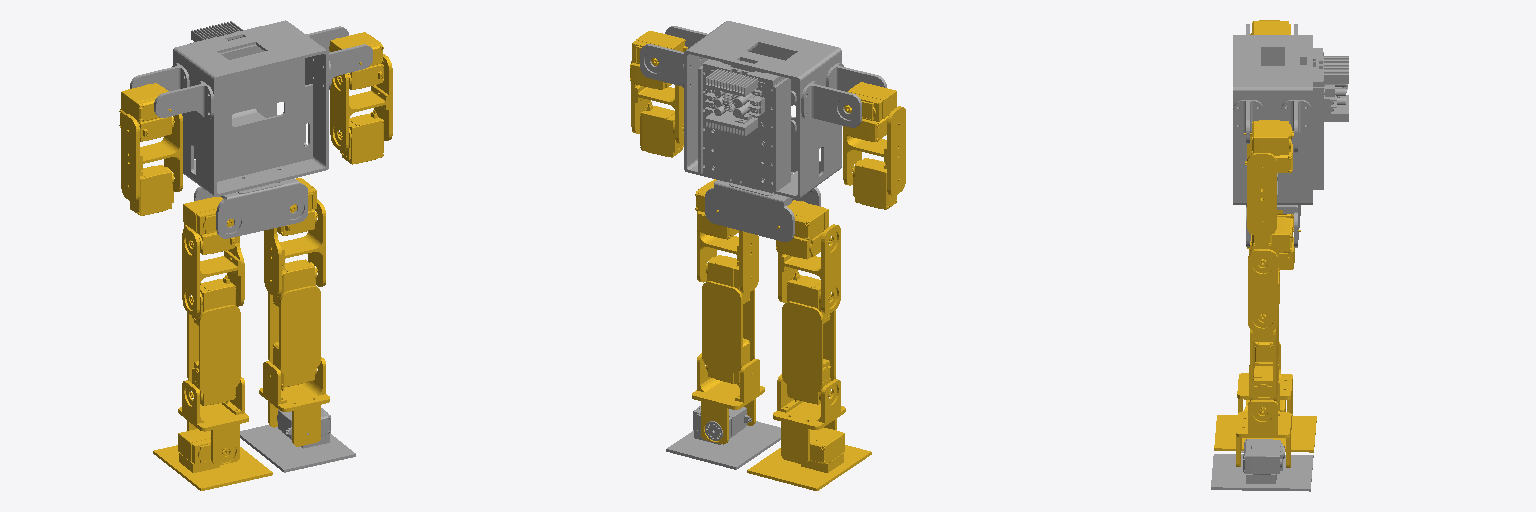
--- Facts derived from the render (not from the file) ---
3 views of the same robot in one strip: view 1: azimuth 30°, elevation 25°; view 2: azimuth 150°, elevation 25°; view 3: azimuth 270°, elevation 25° (orthographic).
Robot: robot_humanoid — 19 links, 18 joints (17 revolute, 1 fixed); root link base_link; default pose: all joints at 0.
Links seen in each view (by area): view 1: base_hip_middle_link, hip_knee_left_link, hip_knee_right_link, knee_ankle_left_link, base_link, hip_hip_left_link, hip_hip_right_link, ankle_ankle_right_link, knee_ankle_right_link, shoulder_shoulder_left_link, shoulder_shoulder_right_link, knee_knee_left_link (+6 smaller); view 2: base_hip_middle_link, hip_knee_left_link, hip_knee_right_link, knee_ankle_left_link, base_link, ankle_ankle_right_link, hip_hip_left_link, hip_hip_right_link, knee_ankle_right_link, shoulder_shoulder_left_link, knee_knee_left_link, hip_shoulder_left_link (+5 smaller); view 3: base_hip_middle_link, ankle_ankle_right_link, hip_hip_right_link, shoulder_shoulder_right_link, knee_ankle_right_link, knee_knee_left_link, hip_shoulder_right_link, hip_knee_right_link, knee_ankle_left_link, base_hip_right_link, hip_shoulder_left_link.
Link boxes in pixels (box(x1,y1,x2,y2)): base_hip_middle_link: box(130, 20, 372, 196); hip_knee_left_link: box(187, 279, 240, 405); hip_knee_right_link: box(268, 264, 320, 390); knee_ankle_left_link: box(178, 377, 248, 465); base_link: box(194, 178, 307, 238); hip_hip_left_link: box(182, 224, 244, 325); hip_hip_right_link: box(264, 199, 325, 305); ankle_ankle_right_link: box(240, 408, 355, 472); knee_ankle_right_link: box(259, 357, 329, 446); shoulder_shoulder_left_link: box(121, 113, 182, 202); shoulder_shoulder_right_link: box(330, 54, 392, 151); knee_knee_left_link: box(153, 429, 272, 490); base_hip_middle_link: box(640, 21, 886, 198); hip_knee_left_link: box(782, 273, 835, 404); hip_knee_right_link: box(702, 262, 754, 387); knee_ankle_left_link: box(773, 374, 845, 464); base_link: box(705, 180, 820, 241); ankle_ankle_right_link: box(666, 406, 780, 469); hip_hip_left_link: box(776, 224, 840, 323); hip_hip_right_link: box(697, 211, 758, 303); knee_ankle_right_link: box(692, 353, 764, 444); shoulder_shoulder_left_link: box(843, 106, 905, 195); knee_knee_left_link: box(747, 433, 871, 490); hip_shoulder_left_link: box(844, 82, 900, 141); base_hip_middle_link: box(1233, 24, 1348, 204); ankle_ankle_right_link: box(1211, 439, 1313, 491); hip_hip_right_link: box(1248, 246, 1294, 341); shoulder_shoulder_right_link: box(1247, 135, 1290, 235); knee_ankle_right_link: box(1236, 381, 1291, 467); knee_knee_left_link: box(1214, 400, 1316, 452); hip_shoulder_right_link: box(1244, 120, 1293, 172); hip_knee_right_link: box(1250, 314, 1277, 414); knee_ankle_left_link: box(1237, 342, 1292, 429); base_hip_right_link: box(1247, 217, 1300, 269); hip_shoulder_left_link: box(1252, 20, 1290, 34).
Bounding box of the posed robot: 0.2934 × 0.1384 × 0.4353 m (x, y, z).
Meshes: 19 distinct files referenced, 18 mesh visuals loaded (18 binary STL); not drawn: 1 (file found but could not be loaded).

URDF robot description (robot_humanoid):
<?xml version="1.0" encoding="utf-8"?>
<!-- This URDF was automatically created by SolidWorks to URDF Exporter! Originally created by Stephen Brawner ([email redacted]) 
     Commit Version: 1.6.0-4-g7f85cfe  Build Version: 1.6.7995.38578
     For more information, please see http://wiki.ros.org/sw_urdf_exporter -->
<robot
  name="robot_humanoid">
  <link
    name="base_link">
    <inertial>
      <origin
        xyz="5.71814292951013E-05 0.00162414381721162 -0.0125699477944302"
        rpy="0 0 0" />
      <mass
        value="0.0483184538892821" />
      <inertia
        ixx="1.5828128500131E-05"
        ixy="8.31810832114208E-07"
        ixz="-1.08217563471799E-07"
        iyy="3.94036713713429E-05"
        iyz="-3.07180859272079E-06"
        izz="3.9835265766736E-05" />
    </inertial>
    <visual>
      <origin
        xyz="0 0 0"
        rpy="0 0 0" />
      <geometry>
        <mesh
          filename="package://robot_humanoid/meshes/base_link.STL" />
      </geometry>
      <material
        name="">
        <color
          rgba="0.698039215686274 0.698039215686274 0.698039215686274 1" />
      </material>
    </visual>
    <collision>
      <origin
        xyz="0 0 0"
        rpy="0 0 0" />
      <geometry>
        <mesh
          filename="package://robot_humanoid/meshes/base_link.STL" />
      </geometry>
    </collision>
  </link>
  <link
    name="base_hip_left_link">
    <inertial>
      <origin
        xyz="0.0105399293381448 -0.0102302850975857 0.0211771873022691"
        rpy="0 0 0" />
      <mass
        value="0.107894198693898" />
      <inertia
        ixx="1.74833584475852E-05"
        ixy="-5.42621266297093E-11"
        ixz="-6.14098886759368E-21"
        iyy="2.77733120653056E-05"
        iyz="-1.55692496780741E-10"
        izz="1.7482432927055E-05" />
    </inertial>
    <visual>
      <origin
        xyz="0 0 0"
        rpy="0 0 0" />
      <geometry>
        <mesh
          filename="package://robot_humanoid/meshes/base_hip_left_link.STL" />
      </geometry>
      <material
        name="">
        <color
          rgba="0.949019607843137 0.76078431372549 0.180392156862745 1" />
      </material>
    </visual>
    <collision>
      <origin
        xyz="0 0 0"
        rpy="0 0 0" />
      <geometry>
        <mesh
          filename="package://robot_humanoid/meshes/base_hip_left_link.STL" />
      </geometry>
    </collision>
  </link>
  <joint
    name="base_hip_left_joint"
    type="revolute">
    <origin
      xyz="-0.0357 -0.019255 -0.027"
      rpy="1.5708 0 3.1064" />
    <parent
      link="base_link" />
    <child
      link="base_hip_left_link" />
    <axis
      xyz="0 0 1" />
    <limit
      lower="0"
      upper="0"
      effort="0"
      velocity="0" />
  </joint>
  <link
    name="hip_hip_left_link">
    <inertial>
      <origin
        xyz="-0.00424611195124075 -0.0343742172733461 -0.018392018683035"
        rpy="0 0 0" />
      <mass
        value="0.12988008385202" />
      <inertia
        ixx="3.54199501553719E-05"
        ixy="3.6434785049625E-07"
        ixz="-9.72480962324895E-09"
        iyy="2.7425240525354E-05"
        iyz="-9.88439397000031E-09"
        izz="2.96024606419154E-05" />
    </inertial>
    <visual>
      <origin
        xyz="0 0 0"
        rpy="0 0 0" />
      <geometry>
        <mesh
          filename="package://robot_humanoid/meshes/hip_hip_left_link.STL" />
      </geometry>
      <material
        name="">
        <color
          rgba="0.949019607843137 0.76078431372549 0.180392156862745 1" />
      </material>
    </visual>
    <collision>
      <origin
        xyz="0 0 0"
        rpy="0 0 0" />
      <geometry>
        <mesh
          filename="package://robot_humanoid/meshes/hip_hip_left_link.STL" />
      </geometry>
    </collision>
  </link>
  <joint
    name="hip_hip_left_joint"
    type="revolute">
    <origin
      xyz="0.0295000000000003 -0.0205000000000002 0.0105000000000001"
      rpy="0 1.5707963267949 0" />
    <parent
      link="base_hip_left_link" />
    <child
      link="hip_hip_left_link" />
    <axis
      xyz="0 0 -1" />
    <limit
      lower="0"
      upper="0"
      effort="0"
      velocity="0" />
  </joint>
  <link
    name="hip_knee_left_link">
    <inertial>
      <origin
        xyz="5.55836626725537E-13 -0.0521312435295957 -0.0183200192904703"
        rpy="0 0 0" />
      <mass
        value="0.130204487068308" />
      <inertia
        ixx="4.59198297284827E-05"
        ixy="-2.0995450048482E-10"
        ixz="-7.13984823547857E-16"
        iyy="2.02899102704369E-05"
        iyz="-1.35613409155228E-15"
        izz="3.28558642041373E-05" />
    </inertial>
    <visual>
      <origin
        xyz="0 0 0"
        rpy="0 0 0" />
      <geometry>
        <mesh
          filename="package://robot_humanoid/meshes/hip_knee_left_link.STL" />
      </geometry>
      <material
        name="">
        <color
          rgba="0.949019607843137 0.76078431372549 0.180392156862745 1" />
      </material>
    </visual>
    <collision>
      <origin
        xyz="0 0 0"
        rpy="0 0 0" />
      <geometry>
        <mesh
          filename="package://robot_humanoid/meshes/hip_knee_left_link.STL" />
      </geometry>
    </collision>
  </link>
  <joint
    name="hip_knee_left_joint"
    type="revolute">
    <origin
      xyz="0 -0.0599999999999997 0"
      rpy="0 0 0" />
    <parent
      link="hip_hip_left_link" />
    <child
      link="hip_knee_left_link" />
    <axis
      xyz="0 0 -1" />
    <limit
      lower="0"
      upper="0"
      effort="0"
      velocity="0" />
  </joint>
  <link
    name="knee_ankle_left_link">
    <inertial>
      <origin
        xyz="-0.000605766944932005 -0.0469801174439637 -0.0116109882348644"
        rpy="0 0 0" />
      <mass
        value="0.0814463522717177" />
      <inertia
        ixx="1.86604517011287E-05"
        ixy="1.64723788355277E-06"
        ixz="4.58631415157031E-07"
        iyy="2.38739038507343E-05"
        iyz="-1.44797791059248E-06"
        izz="1.7876768644325E-05" />
    </inertial>
    <visual>
      <origin
        xyz="0 0 0"
        rpy="0 0 0" />
      <geometry>
        <mesh
          filename="package://robot_humanoid/meshes/knee_ankle_left_link.STL" />
      </geometry>
      <material
        name="">
        <color
          rgba="0.949019607843137 0.76078431372549 0.180392156862745 1" />
      </material>
    </visual>
    <collision>
      <origin
        xyz="0 0 0"
        rpy="0 0 0" />
      <geometry>
        <mesh
          filename="package://robot_humanoid/meshes/knee_ankle_left_link.STL" />
      </geometry>
    </collision>
  </link>
  <joint
    name="knee_ankle_left_joint"
    type="revolute">
    <origin
      xyz="0 -0.1034 0"
      rpy="0 0 0" />
    <parent
      link="hip_knee_left_link" />
    <child
      link="knee_ankle_left_link" />
    <axis
      xyz="0 0 -1" />
    <limit
      lower="0"
      upper="0"
      effort="0"
      velocity="0" />
  </joint>
  <link
    name="knee_knee_left_link">
    <inertial>
      <origin
        xyz="-0.00809509712634163 -0.00727461919403294 -0.0218892657362359"
        rpy="0 0 0" />
      <mass
        value="0.0850053645564242" />
      <inertia
        ixx="2.80542145236209E-05"
        ixy="5.98719522766253E-07"
        ixz="-9.6741360429222E-09"
        iyy="4.73017474375486E-05"
        iyz="5.07151850919877E-11"
        izz="2.35375503041348E-05" />
    </inertial>
    <visual>
      <origin
        xyz="0 0 0"
        rpy="0 0 0" />
      <geometry>
        <mesh
          filename="package://robot_humanoid/meshes/knee_knee_left_link.STL" />
      </geometry>
      <material
        name="">
        <color
          rgba="0.949019607843137 0.76078431372549 0.180392156862745 1" />
      </material>
    </visual>
    <collision>
      <origin
        xyz="0 0 0"
        rpy="0 0 0" />
      <geometry>
        <mesh
          filename="package://robot_humanoid/meshes/knee_knee_left_link.STL" />
      </geometry>
    </collision>
  </link>
  <joint
    name="knee_knee_left_link"
    type="revolute">
    <origin
      xyz="0.0214999999999998 -0.0570000000000001 -0.0179999999999996"
      rpy="0 1.5707963267949 0" />
    <parent
      link="knee_ankle_left_link" />
    <child
      link="knee_knee_left_link" />
    <axis
      xyz="0 0 -1" />
    <limit
      lower="0"
      upper="0"
      effort="0"
      velocity="0" />
  </joint>
  <link
    name="base_hip_right_link">
    <inertial>
      <origin
        xyz="0.00949195873399521 -0.0102300939247333 -0.0222251579322365"
        rpy="0 0 0" />
      <mass
        value="0.107894198771709" />
      <inertia
        ixx="1.74833584185863E-05"
        ixy="5.42621122747514E-11"
        ixz="1.00585162486448E-21"
        iyy="2.77733119961605E-05"
        iyz="-1.5569202862852E-10"
        izz="1.74824328980561E-05" />
    </inertial>
    <visual>
      <origin
        xyz="0 0 0"
        rpy="0 0 0" />
      <geometry>
        <mesh
          filename="package://robot_humanoid/meshes/base_hip_right_link.STL" />
      </geometry>
      <material
        name="">
        <color
          rgba="0.949019607843137 0.76078431372549 0.180392156862745 1" />
      </material>
    </visual>
    <collision>
      <origin
        xyz="0 0 0"
        rpy="0 0 0" />
      <geometry>
        <mesh
          filename="package://robot_humanoid/meshes/base_hip_right_link.STL" />
      </geometry>
    </collision>
  </link>
  <joint
    name="base_hip_right_joint"
    type="revolute">
    <origin
      xyz="0.034256 -0.02172 -0.027"
      rpy="1.5708 0 -0.035225" />
    <parent
      link="base_link" />
    <child
      link="base_hip_right_link" />
    <axis
      xyz="0 0 -1" />
    <limit
      lower="0"
      upper="0"
      effort="0"
      velocity="0" />
  </joint>
  <link
    name="hip_hip_right_link">
    <inertial>
      <origin
        xyz="0.00424619136960429 -0.0343747407536696 -0.0218920186721144"
        rpy="0 0 0" />
      <mass
        value="0.129880083890925" />
      <inertia
        ixx="3.54199501199786E-05"
        ixy="-3.64347510948121E-07"
        ixz="9.62339732840965E-09"
        iyy="2.74252404907814E-05"
        iyz="-9.4638785584597E-09"
        izz="2.96024606483097E-05" />
    </inertial>
    <visual>
      <origin
        xyz="0 0 0"
        rpy="0 0 0" />
      <geometry>
        <mesh
          filename="package://robot_humanoid/meshes/hip_hip_right_link.STL" />
      </geometry>
      <material
        name="">
        <color
          rgba="0.949019607843137 0.76078431372549 0.180392156862745 1" />
      </material>
    </visual>
    <collision>
      <origin
        xyz="0 0 0"
        rpy="0 0 0" />
      <geometry>
        <mesh
          filename="package://robot_humanoid/meshes/hip_hip_right_link.STL" />
      </geometry>
    </collision>
  </link>
  <joint
    name="hip_hip_right_joint"
    type="revolute">
    <origin
      xyz="0.0308999999999979 -0.0204999999999999 -0.0125999999999999"
      rpy="0 1.5707963267949 0" />
    <parent
      link="base_hip_right_link" />
    <child
      link="hip_hip_right_link" />
    <axis
      xyz="0 0 -1" />
    <limit
      lower="0"
      upper="0"
      effort="0"
      velocity="0" />
  </joint>
  <link
    name="hip_knee_right_link">
    <inertial>
      <origin
        xyz="5.56270307594531E-13 -0.0521312435295957 -0.0218200192904817"
        rpy="0 0 0" />
      <mass
        value="0.130204487068308" />
      <inertia
        ixx="4.59198297284826E-05"
        ixy="-2.0995450043251E-10"
        ixz="-7.13990964536725E-16"
        iyy="2.02899102704369E-05"
        iyz="-1.3561444097291E-15"
        izz="3.28558642041372E-05" />
    </inertial>
    <visual>
      <origin
        xyz="0 0 0"
        rpy="0 0 0" />
      <geometry>
        <mesh
          filename="package://robot_humanoid/meshes/hip_knee_right_link.STL" />
      </geometry>
      <material
        name="">
        <color
          rgba="0.949019607843137 0.76078431372549 0.180392156862745 1" />
      </material>
    </visual>
    <collision>
      <origin
        xyz="0 0 0"
        rpy="0 0 0" />
      <geometry>
        <mesh
          filename="package://robot_humanoid/meshes/hip_knee_right_link.STL" />
      </geometry>
    </collision>
  </link>
  <joint
    name="hip_knee_right_joint"
    type="revolute">
    <origin
      xyz="0 -0.0599999999999997 0"
      rpy="0 0 0" />
    <parent
      link="hip_hip_right_link" />
    <child
      link="hip_knee_right_link" />
    <axis
      xyz="0 0 -1" />
    <limit
      lower="0"
      upper="0"
      effort="0"
      velocity="0" />
  </joint>
  <link
    name="knee_ankle_right_link">
    <inertial>
      <origin
        xyz="-0.000996730313927632 -0.0274353612822382 -0.0222052426925548"
        rpy="0 0 0" />
      <mass
        value="0.0276035181342435" />
      <inertia
        ixx="9.49152414080072E-06"
        ixy="1.64718716836771E-06"
        ixz="4.48957279114104E-07"
        iyy="9.98822104115909E-06"
        iyz="-1.44787293328077E-06"
        izz="9.56428420322296E-06" />
    </inertial>
    <visual>
      <origin
        xyz="0 0 0"
        rpy="0 0 0" />
      <geometry>
        <mesh
          filename="package://robot_humanoid/meshes/knee_ankle_right_link.STL" />
      </geometry>
      <material
        name="">
        <color
          rgba="0.949019607843137 0.76078431372549 0.180392156862745 1" />
      </material>
    </visual>
    <collision>
      <origin
        xyz="0 0 0"
        rpy="0 0 0" />
      <geometry>
        <mesh
          filename="package://robot_humanoid/meshes/knee_ankle_right_link.STL" />
      </geometry>
    </collision>
  </link>
  <joint
    name="knee_ankle_right_joint"
    type="revolute">
    <origin
      xyz="0 -0.1034 0"
      rpy="0 0 0" />
    <parent
      link="hip_knee_right_link" />
    <child
      link="knee_ankle_right_link" />
    <axis
      xyz="0 0 -1" />
    <limit
      lower="0"
      upper="0"
      effort="0"
      velocity="0" />
  </joint>
  <link
    name="ankle_ankle_right_link">
    <inertial>
      <origin
        xyz="-0.00800882305238669 -0.00719708942205416 -0.0220325515118766"
        rpy="0 0 0" />
      <mass
        value="0.0859210745253492" />
      <inertia
        ixx="2.80785040387897E-05"
        ixy="5.98719522766305E-07"
        ixz="-9.67413604292422E-09"
        iyy="4.73260369527174E-05"
        iyz="5.07151851109081E-11"
        izz="2.35857406634983E-05" />
    </inertial>
    <visual>
      <origin
        xyz="0 0 0"
        rpy="0 0 0" />
      <geometry>
        <mesh
          filename="package://robot_humanoid/meshes/ankle_ankle_right_link.STL" />
      </geometry>
      <material
        name="">
        <color
          rgba="0.698039215686274 0.698039215686274 0.698039215686274 1" />
      </material>
    </visual>
    <collision>
      <origin
        xyz="0 0 0"
        rpy="0 0 0" />
      <geometry>
        <mesh
          filename="package://robot_humanoid/meshes/ankle_ankle_right_link.STL" />
      </geometry>
    </collision>
  </link>
  <joint
    name="ankle_ankle_right_joint"
    type="revolute">
    <origin
      xyz="0.0214999999999996 -0.0570000000000001 -0.0215000000000021"
      rpy="0 1.5707963267949 0" />
    <parent
      link="knee_ankle_right_link" />
    <child
      link="ankle_ankle_right_link" />
    <axis
      xyz="0 0 -1" />
    <limit
      lower="0"
      upper="0"
      effort="0"
      velocity="0" />
  </joint>
  <link
    name="base_hip_middle_link">
    <inertial>
      <origin
        xyz="-0.000143724810534948 0.0147280243467621 0.0797673295394494"
        rpy="0 0 0" />
      <mass
        value="0.319775934585669" />
      <inertia
        ixx="0.000482594760707046"
        ixy="-2.1463846261751E-07"
        ixz="-2.40807211313184E-08"
        iyy="0.000836183966131393"
        iyz="4.64558426111012E-07"
        izz="0.000519966258401027" />
    </inertial>
    <visual>
      <origin
        xyz="0 0 0"
        rpy="0 0 0" />
      <geometry>
        <mesh
          filename="package://robot_humanoid/meshes/base_hip_middle_link.STL" />
      </geometry>
      <material
        name="">
        <color
          rgba="0.698039215686274 0.698039215686274 0.698039215686274 1" />
      </material>
    </visual>
    <collision>
      <origin
        xyz="0 0 0"
        rpy="0 0 0" />
      <geometry>
        <mesh
          filename="package://robot_humanoid/meshes/base_hip_middle_link.STL" />
      </geometry>
    </collision>
  </link>
  <joint
    name="base_hip_middle_joint"
    type="revolute">
    <origin
      xyz="0 0 0.0048"
      rpy="0 0 0" />
    <parent
      link="base_link" />
    <child
      link="base_hip_middle_link" />
    <axis
      xyz="0 0 1" />
    <limit
      lower="0"
      upper="0"
      effort="0"
      velocity="0" />
  </joint>
  <link
    name="hip_shoulder_left_link">
    <inertial>
      <origin
        xyz="-0.0106949615040785 -0.010230093925405 0.0213508393667889"
        rpy="0 0 0" />
      <mass
        value="0.107894198733174" />
      <inertia
        ixx="1.74833584295454E-05"
        ixy="-1.55692625094341E-10"
        ixz="-2.02129854483458E-20"
        iyy="2.77733120234834E-05"
        iyz="-5.42618233822758E-11"
        izz="1.74824329090152E-05" />
    </inertial>
    <visual>
      <origin
        xyz="0 0 0"
        rpy="0 0 0" />
      <geometry>
        <mesh
          filename="package://robot_humanoid/meshes/hip_shoulder_left_link.STL" />
      </geometry>
      <material
        name="">
        <color
          rgba="0.949019607843137 0.76078431372549 0.180392156862745 1" />
      </material>
    </visual>
    <collision>
      <origin
        xyz="0 0 0"
        rpy="0 0 0" />
      <geometry>
        <mesh
          filename="package://robot_humanoid/meshes/hip_shoulder_left_link.STL" />
      </geometry>
    </collision>
  </link>
  <joint
    name="hip_shoulder_left_joint"
    type="revolute">
    <origin
      xyz="-0.108 0.0195000000000005 0.1093"
      rpy="1.5707963267949 0 0" />
    <parent
      link="base_hip_middle_link" />
    <child
      link="hip_shoulder_left_link" />
    <axis
      xyz="0 0 1" />
    <limit
      lower="0"
      upper="0"
      effort="0"
      velocity="0" />
  </joint>
  <link
    name="shoulder_shoulder_left_link">
    <inertial>
      <origin
        xyz="0.00698877986722108 -0.00900750540516558 -0.022251020921203"
        rpy="0 0 0" />
      <mass
        value="0.0772422226634493" />
      <inertia
        ixx="2.27816658550064E-05"
        ixy="1.05146837617641E-10"
        ixz="9.67409512653915E-09"
        iyy="1.92566185038471E-05"
        iyz="2.10254567352037E-10"
        izz="2.18215807571956E-05" />
    </inertial>
    <visual>
      <origin
        xyz="0 0 0"
        rpy="0 0 0" />
      <geometry>
        <mesh
          filename="package://robot_humanoid/meshes/shoulder_shoulder_left_link.STL" />
      </geometry>
      <material
        name="">
        <color
          rgba="0.949019607843137 0.76078431372549 0.180392156862745 1" />
      </material>
    </visual>
    <collision>
      <origin
        xyz="0 0 0"
        rpy="0 0 0" />
      <geometry>
        <mesh
          filename="package://robot_humanoid/meshes/shoulder_shoulder_left_link.STL" />
      </geometry>
    </collision>
  </link>
  <joint
    name="shoulder_shoulder_left_joint"
    type="revolute">
    <origin
      xyz="0.0105000000000001 -0.0205 0.0309"
      rpy="0 1.5707963267949 0" />
    <parent
      link="hip_shoulder_left_link" />
    <child
      link="shoulder_shoulder_left_link" />
    <axis
      xyz="0 0 -1" />
    <limit
      lower="0"
      upper="0"
      effort="0"
      velocity="0" />
  </joint>
  <link
    name="shoulder_elbow_left_link">
    <inertial>
      <origin
        xyz="9.5401596563599E-08 -0.00998733125338054 -0.0218258506936455"
        rpy="0 0 0" />
      <mass
        value="0.0540513645760621" />
      <inertia
        ixx="1.38876292348193E-05"
        ixy="-1.04977224221758E-10"
        ixz="-5.07154008666767E-11"
        iyy="8.31443086285315E-06"
        iyz="-9.67413631361214E-09"
        izz="9.16994849231721E-06" />
    </inertial>
    <visual>
      <origin
        xyz="0 0 0"
        rpy="0 0 0" />
      <geometry>
        <mesh
          filename="package://robot_humanoid/meshes/shoulder_elbow_left_link.STL" />
      </geometry>
      <material
        name="">
        <color
          rgba="0.949019607843137 0.76078431372549 0.180392156862745 1" />
      </material>
    </visual>
    <collision>
      <origin
        xyz="0 0 0"
        rpy="0 0 0" />
      <geometry>
        <mesh
          filename="package://robot_humanoid/meshes/shoulder_elbow_left_link.STL" />
      </geometry>
    </collision>
  </link>
  <joint
    name="shoulder_elbow_left_joint"
    type="revolute">
    <origin
      xyz="0 -0.0600000000000008 0"
      rpy="0 0 0" />
    <parent
      link="shoulder_shoulder_left_link" />
    <child
      link="shoulder_elbow_left_link" />
    <axis
      xyz="0 0 -1" />
    <limit
      lower="0"
      upper="0"
      effort="0"
      velocity="0" />
  </joint>
  <link
    name="hip_shoulder_right_link">
    <inertial>
      <origin
        xyz="-0.0106949615040784 -0.0102302850973796 -0.0178508393667852"
        rpy="0 0 0" />
      <mass
        value="0.107894198733174" />
      <inertia
        ixx="1.74833584295454E-05"
        ixy="1.55692625064332E-10"
        ixz="-7.61506993743586E-21"
        iyy="2.77733120234834E-05"
        iyz="-5.42618233774739E-11"
        izz="1.74824329090152E-05" />
    </inertial>
    <visual>
      <origin
        xyz="0 0 0"
        rpy="0 0 0" />
      <geometry>
        <mesh
          filename="package://robot_humanoid/meshes/hip_shoulder_right_link.STL" />
      </geometry>
      <material
        name="">
        <color
          rgba="0.949019607843137 0.76078431372549 0.180392156862745 1" />
      </material>
    </visual>
    <collision>
      <origin
        xyz="0 0 0"
        rpy="0 0 0" />
      <geometry>
        <mesh
          filename="package://robot_humanoid/meshes/hip_shoulder_right_link.STL" />
      </geometry>
    </collision>
  </link>
  <joint
    name="hip_shoulder_right_joint"
    type="revolute">
    <origin
      xyz="0.108 0.0159999999999952 0.1093"
      rpy="1.5707963267949 0 3.14159265358979" />
    <parent
      link="base_hip_middle_link" />
    <child
      link="hip_shoulder_right_link" />
    <axis
      xyz="0 0 -1" />
    <limit
      lower="0"
      upper="0"
      effort="0"
      velocity="0" />
  </joint>
  <link
    name="shoulder_shoulder_right_link">
    <inertial>
      <origin
        xyz="-0.00698877966188145 -0.00900763892247444 -0.0222510209212035"
        rpy="0 0 0" />
      <mass
        value="0.0772422226634494" />
      <inertia
        ixx="2.27816658550064E-05"
        ixy="1.05146837624487E-10"
        ixz="-9.67417750068624E-09"
        iyy="1.92566185038471E-05"
        iyz="3.11685369054204E-10"
        izz="2.18215807571957E-05" />
    </inertial>
    <visual>
      <origin
        xyz="0 0 0"
        rpy="0 0 0" />
      <geometry>
        <mesh
          filename="package://robot_humanoid/meshes/shoulder_shoulder_right_link.STL" />
      </geometry>
      <material
        name="">
        <color
          rgba="0.949019607843137 0.76078431372549 0.180392156862745 1" />
      </material>
    </visual>
    <collision>
      <origin
        xyz="0 0 0"
        rpy="0 0 0" />
      <geometry>
        <mesh
          filename="package://robot_humanoid/meshes/shoulder_shoulder_right_link.STL" />
      </geometry>
    </collision>
  </link>
  <joint
    name="shoulder_shoulder_right_joint"
    type="revolute">
    <origin
      xyz="0.0105000000000001 -0.0205000000000001 -0.0274"
      rpy="0 1.5707963267949 0" />
    <parent
      link="hip_shoulder_right_link" />
    <child
      link="shoulder_shoulder_right_link" />
    <axis
      xyz="0 0 -1" />
    <limit
      lower="0"
      upper="0"
      effort="0"
      velocity="0" />
  </joint>
  <link
    name="shoulder_elbow_right_link">
    <inertial>
      <origin
        xyz="9.54015961160404E-08 -0.00998733125339219 -0.0253258506936435"
        rpy="0 0 0" />
      <mass
        value="0.054051364576062" />
      <inertia
        ixx="1.38876292348193E-05"
        ixy="-1.04977224243154E-10"
        ixz="-5.07154008526007E-11"
        iyy="8.31443086285314E-06"
        iyz="-9.67413631361371E-09"
        izz="9.16994849231721E-06" />
    </inertial>
    <visual>
      <origin
        xyz="0 0 0"
        rpy="0 0 0" />
      <geometry>
        <mesh
          filename="package://robot_humanoid/meshes/shoulder_elbow_right_link.STL" />
      </geometry>
      <material
        name="">
        <color
          rgba="0.949019607843137 0.76078431372549 0.180392156862745 1" />
      </material>
    </visual>
    <collision>
      <origin
        xyz="0 0 0"
        rpy="0 0 0" />
      <geometry>
        <mesh
          filename="package://robot_humanoid/meshes/shoulder_elbow_right_link.STL" />
      </geometry>
    </collision>
  </link>
  <joint
    name="shoulder_elbow_right_joint"
    type="revolute">
    <origin
      xyz="0 -0.0599999999999999 0.00350000000000003"
      rpy="0 0 0" />
    <parent
      link="shoulder_shoulder_right_link" />
    <child
      link="shoulder_elbow_right_link" />
    <axis
      xyz="0 0 -1" />
    <limit
      lower="0"
      upper="0"
      effort="0"
      velocity="0" />
  </joint>
  <link
    name="hip_head_link">
    <inertial>
      <origin
        xyz="-0.00204365613944333 0.00683882656271335 -0.159094337424533"
        rpy="0 0 0" />
      <mass
        value="1.94654397076669" />
      <inertia
        ixx="0.0352962677332103"
        ixy="2.73256743762929E-05"
        ixz="-4.64538124094436E-05"
        iyy="0.0424248746320823"
        iyz="-0.00234016629087972"
        izz="0.00925967987804875" />
    </inertial>
    <visual>
      <origin
        xyz="0 0 0"
        rpy="0 0 0" />
      <geometry>
        <mesh
          filename="package://robot_humanoid/meshes/hip_head_link.STL" />
      </geometry>
      <material
        name="">
        <color
          rgba="1 1 1 1" />
      </material>
    </visual>
    <collision>
      <origin
        xyz="0 0 0"
        rpy="0 0 0" />
      <geometry>
        <mesh
          filename="package://robot_humanoid/meshes/hip_head_link.STL" />
      </geometry>
    </collision>
  </link>
  <joint
    name="hip_head_joint"
    type="fixed">
    <origin
      xyz="0.00102807858096265 -0.00174999999999934 0.144615997868974"
      rpy="0 0 0" />
    <parent
      link="base_hip_middle_link" />
    <child
      link="hip_head_link" />
    <axis
      xyz="0 0 0" />
  </joint>
</robot>
